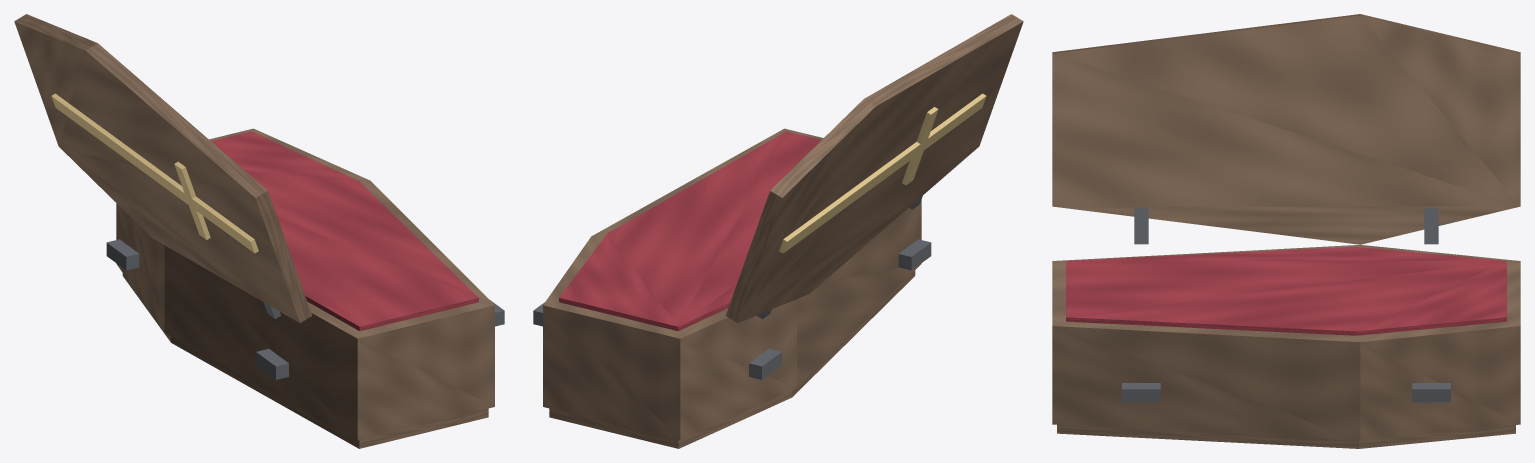
File: vampire-crypt-and-gothic-cathedral-coffin-open-f868709c__23019.glb
The picture shows the model from 3 angles, left to right: view 1: azimuth 30°, elevation 25°; view 2: azimuth 150°, elevation 25°; view 3: azimuth 270°, elevation 25°; orthographic projection. The views are drawn at different scales.
Parts seen in each view (by area): view 1: coffin-open, coffin-lid (×2); view 2: coffin-open, coffin-lid (×2); view 3: coffin-lid (×2), coffin-open.
Part boxes in pixels (box(x1,y1,x2,y2)): coffin-open: box(106, 128, 504, 448); coffin-lid (×2): box(14, 14, 312, 322); coffin-open: box(533, 128, 931, 448); coffin-lid (×2): box(725, 14, 1023, 322); coffin-lid (×2): box(1052, 14, 1520, 244); coffin-open: box(1052, 244, 1520, 448).
Size of the model in its own units: 1.37 by 1.4 by 1.94.
4 materials, 2 textured.
